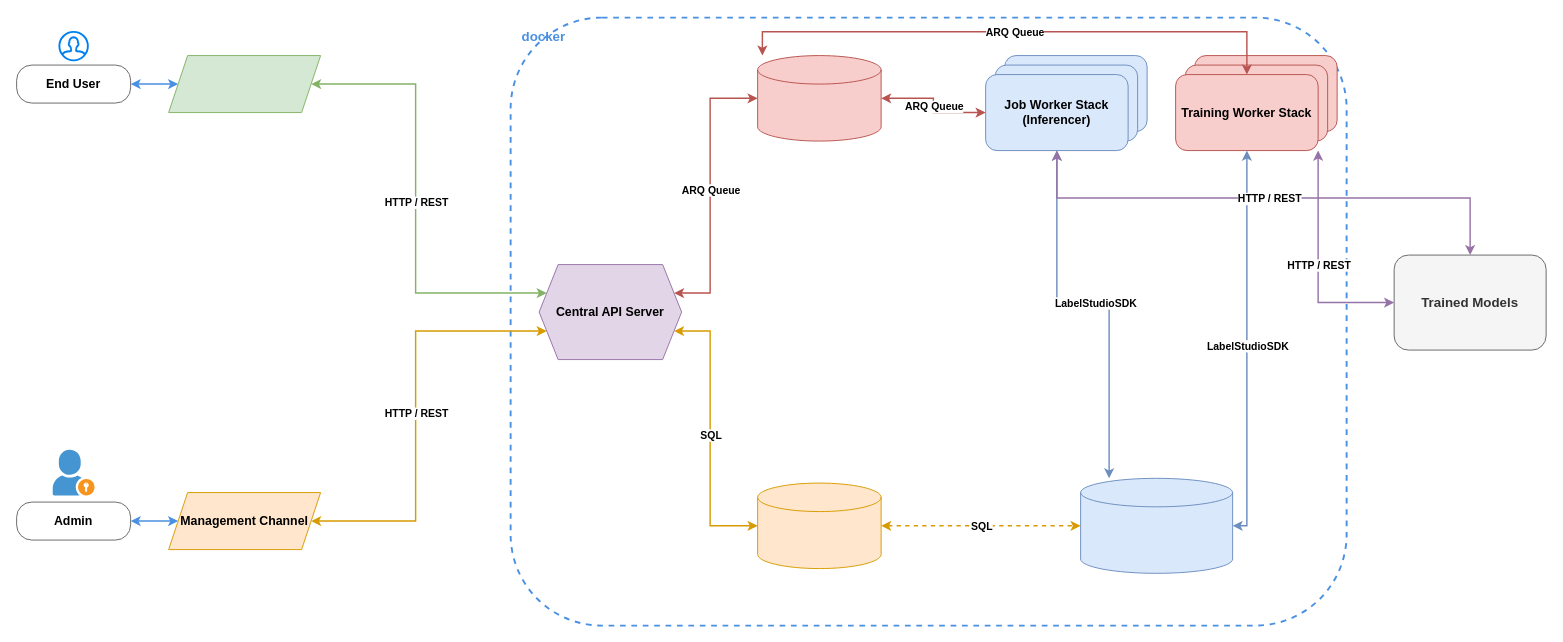
The diagram is 1563 pixels wide and 642 high, and some of its shapes have lost their labels. The centre of each missing label's shape, as x and y in pixels:
"Annotated Database, Label Studio, etc." goes at point 1156,525.
"Inference Channel" goes at point 244,84.
"PostgreSQL Database" goes at point 819,525.
"Redis Server" goes at point 819,98.
